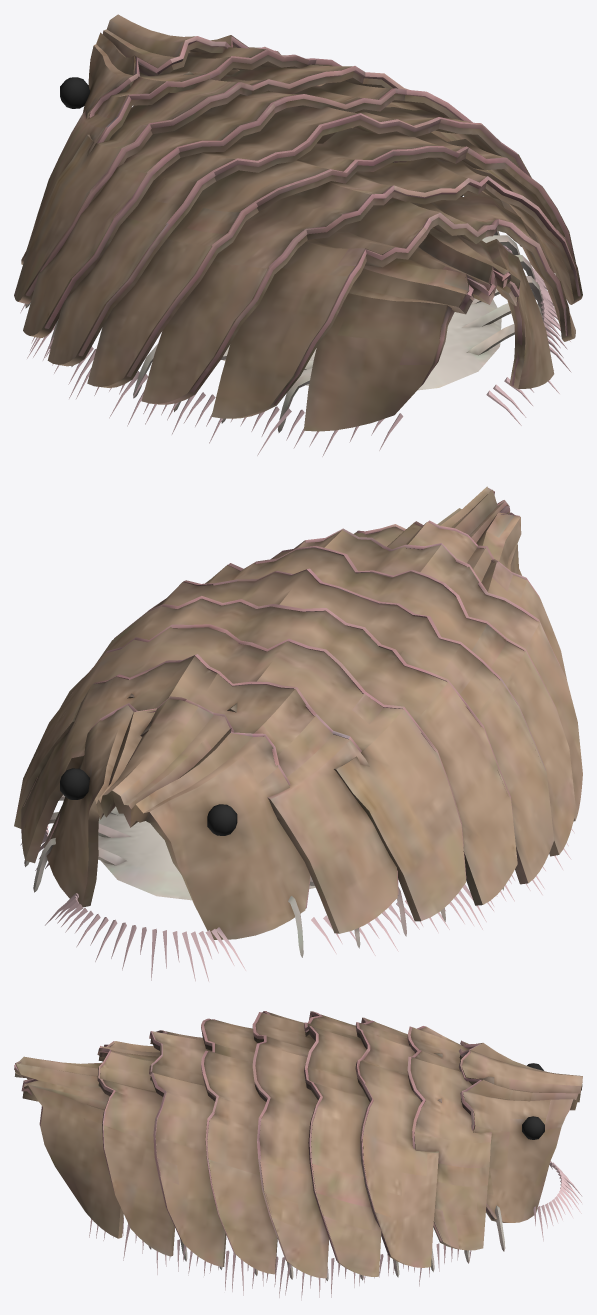
Rendered from fauna_ferracaris.glb.
The picture shows the model from 3 angles, top to bottom: view 1: azimuth 30°, elevation 25°; view 2: azimuth 150°, elevation 25°; view 3: azimuth 270°, elevation 25°; orthographic projection. The views are drawn at different scales.
Visible parts, largest first — view 1: ferracaris_body; view 2: ferracaris_body; view 3: ferracaris_body.
Part boxes in pixels (x1,y1,x2,y2): ferracaris_body: (14,14,582,456); ferracaris_body: (14,486,582,981); ferracaris_body: (14,1011,582,1300).
Size of the model in its own units: 0.1903 by 0.0925 by 0.2633.
5 materials, 3 textured.
